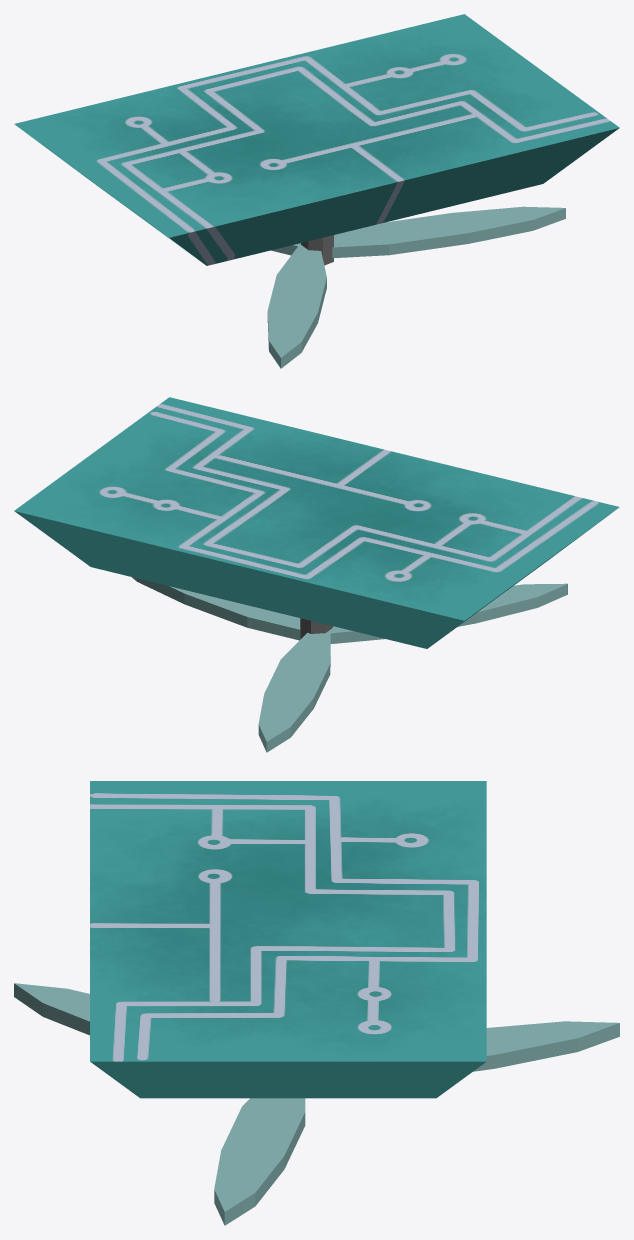
Rendered from floating platform.fbx.
The picture shows the model from 3 angles, top to bottom: view 1: azimuth 30°, elevation 25°; view 2: azimuth 150°, elevation 25°; view 3: azimuth 270°, elevation 25°; orthographic projection. The views are drawn at different scales.
Visible parts, largest first — view 1: pCube1, pPlane7, pCylinder1; view 2: pCube1, pPlane7; view 3: pCube1, pPlane7.
Part boxes in pixels (x1=…): pCube1: x1=14, y1=14, x2=619, y2=265; pPlane7: x1=267, y1=206, x2=565, y2=368; pCylinder1: x1=301, y1=235, x2=333, y2=265; pCube1: x1=14, y1=397, x2=619, y2=648; pPlane7: x1=132, y1=577, x2=567, y2=752; pCube1: x1=90, y1=781, x2=486, y2=1098; pPlane7: x1=14, y1=983, x2=619, y2=1225.
Size of the model in its own units: 4.04 by 1.14 by 3.68.
1 material, 1 textured.
